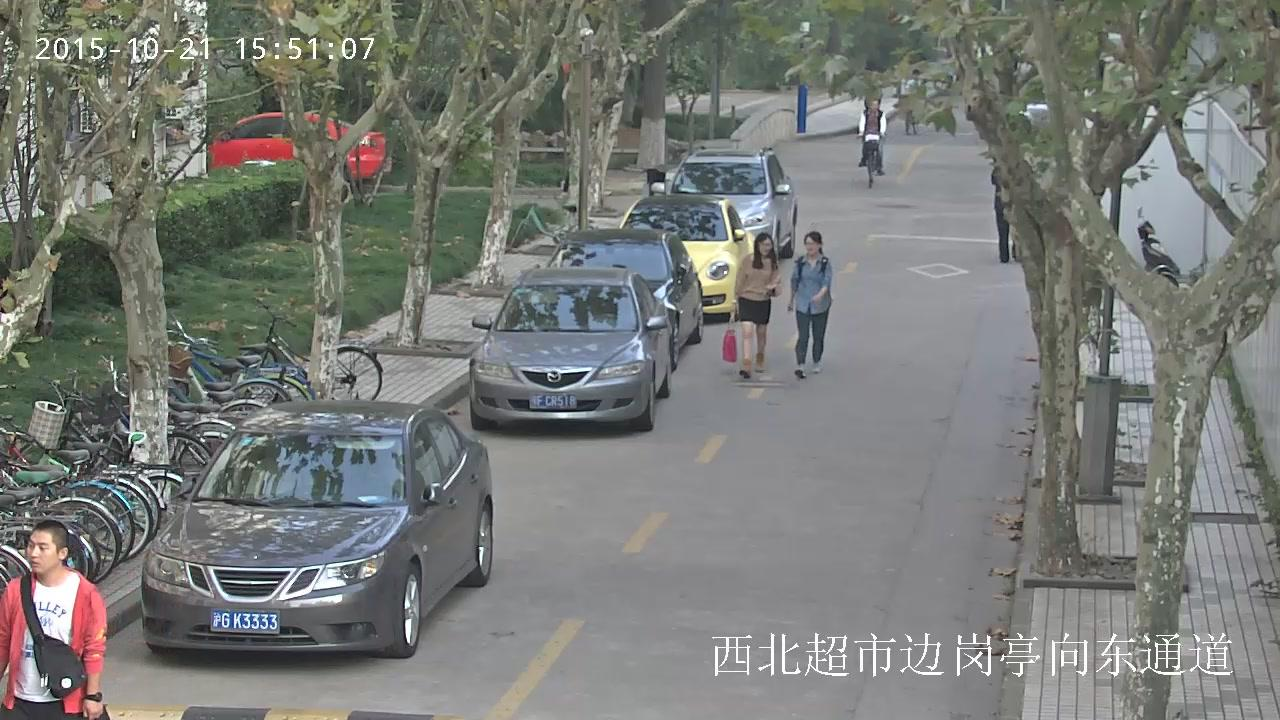person: (3, 518, 109, 718), (720, 231, 785, 379), (787, 231, 833, 379), (990, 155, 1030, 264), (853, 97, 889, 189), (853, 97, 889, 176), (899, 69, 931, 137), (900, 70, 930, 125)
